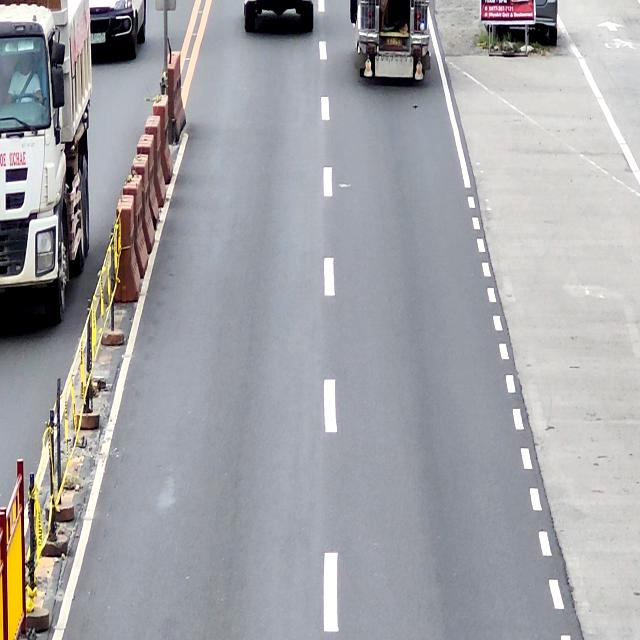Jeep: (349, 0, 431, 79)
License-Plate: (385, 36, 402, 48)
